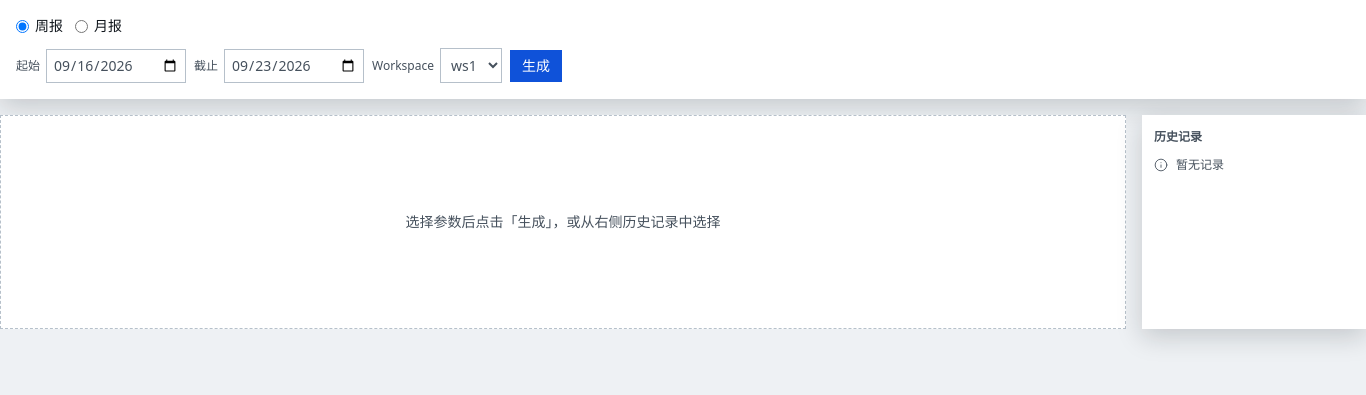
Test case: ReportView › surfaces a generate error inline without crashing
This screenshot has width=1366, height=395.
What coordinates should you click on to do the following:
click the button with test id "report-generate"
I would click on:
 (536, 66)
Its box is top-left (510, 50), bottom-right (562, 82).
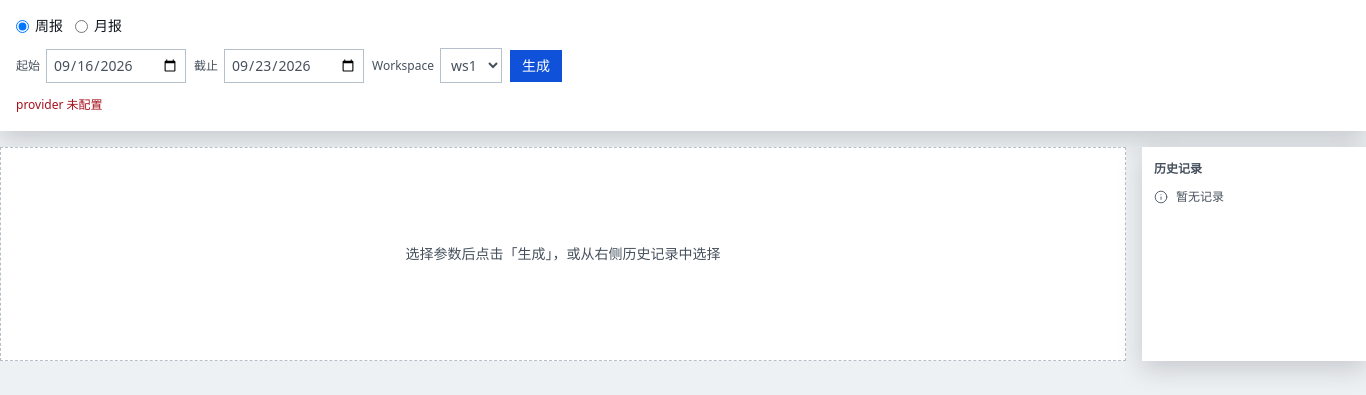
Now the text "provider 未配置" is shown, box top-left (16, 96), bottom-right (102, 113)
